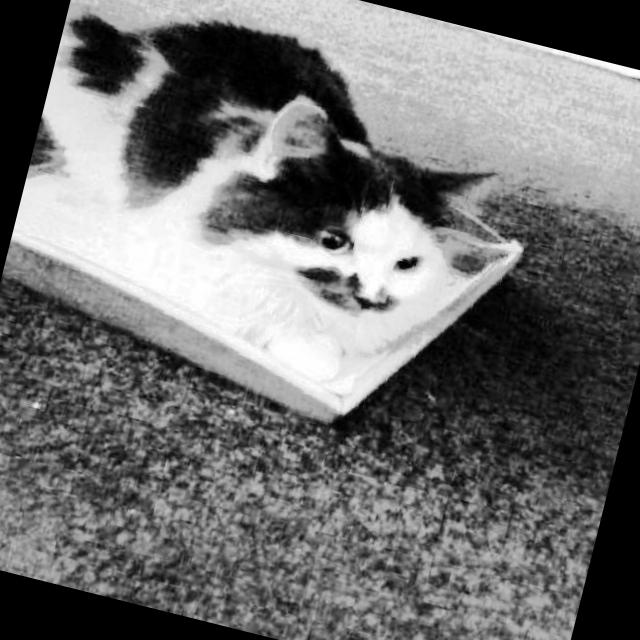Cat: (2, 0, 547, 389)
